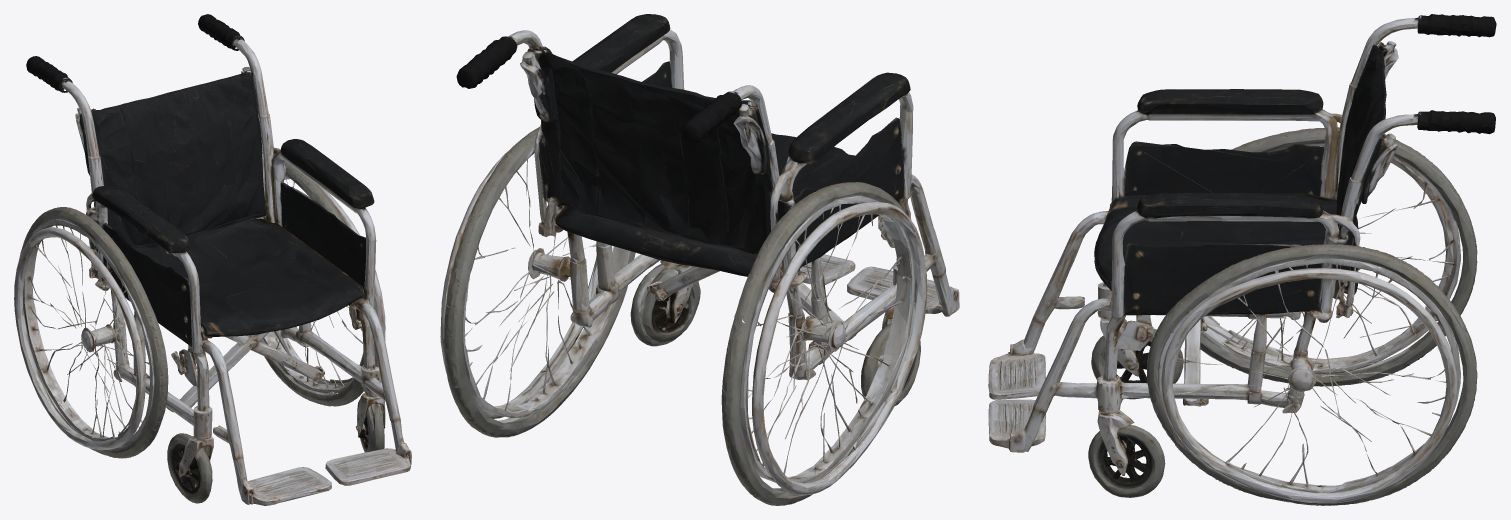
Rendered from w4wheelchair.glb.
3 views of the same model, side by side, from view 1: azimuth 30°, elevation 25°; view 2: azimuth 150°, elevation 25°; view 3: azimuth 270°, elevation 25° (orthographic). The views are drawn at different scales.
Parts seen in each view (by area): view 1: output_unwrapped; view 2: output_unwrapped; view 3: output_unwrapped.
Boxes of the visible parts, <box> form: output_unwrapped: <box>14,14,411,505</box>; output_unwrapped: <box>440,14,959,505</box>; output_unwrapped: <box>988,14,1496,505</box>.
Bounding box in the file's own units: 0.65 × 0.8344 × 1.
Materials: 1 (1 with a texture image).
